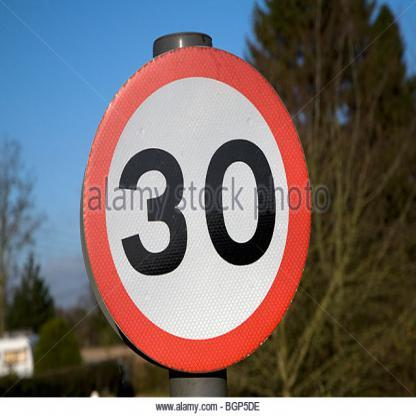Speed Limit 30: (86, 48, 305, 370)
